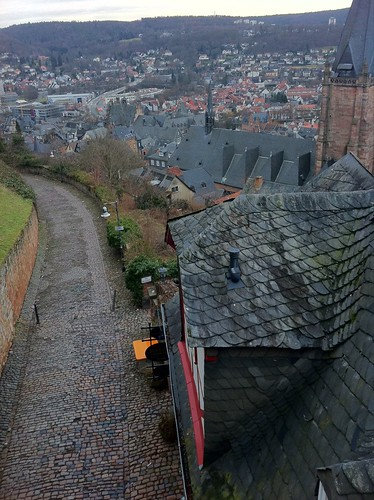building: (178, 177, 374, 500), (168, 121, 319, 198), (313, 1, 374, 161)
street: (1, 170, 175, 500)
